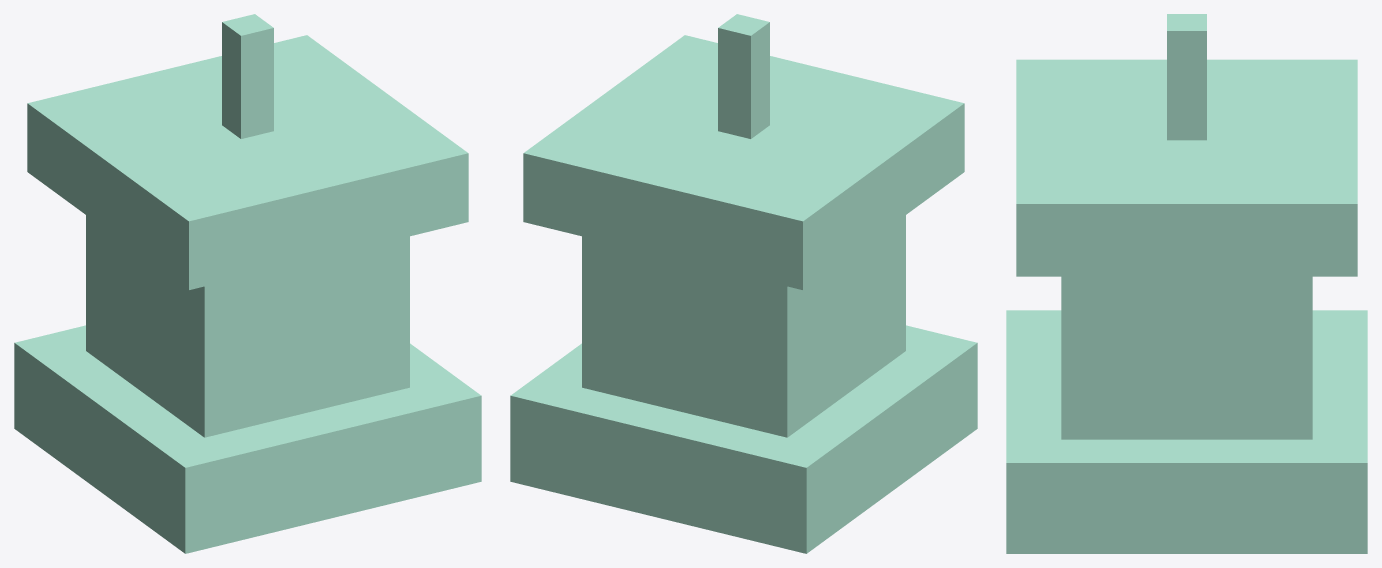
Rendered from outpost.gltf.
3 renders of one model, left to right at view 1: azimuth 30°, elevation 25°; view 2: azimuth 150°, elevation 25°; view 3: azimuth 270°, elevation 25°, orthographic. The views are drawn at different scales.
Parts seen in each view (by area): view 1: outpost; view 2: outpost; view 3: outpost.
Part boxes in pixels (x1=…): outpost: x1=14, y1=14, x2=481, y2=553; outpost: x1=510, y1=14, x2=977, y2=553; outpost: x1=1006, y1=14, x2=1367, y2=553.
Bounding box in the file's own units: 1.8 × 2.5 × 1.8.
